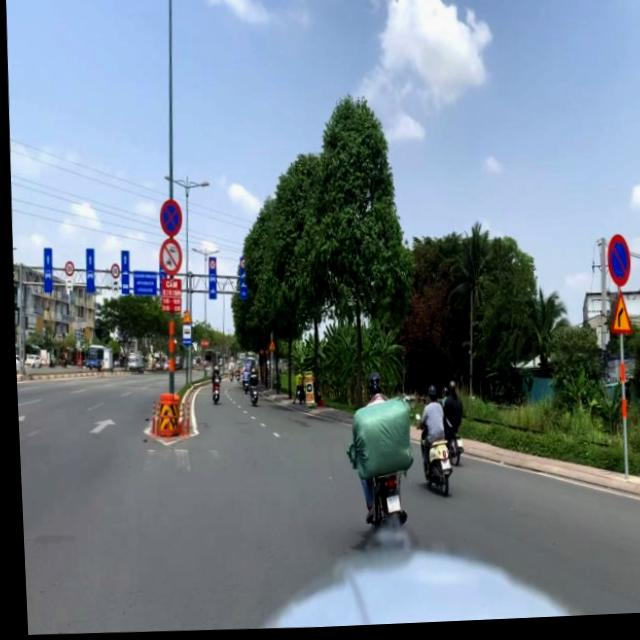Ben xe buyt: (178, 324, 189, 347)
Cam do xe: (603, 239, 629, 293)
Cam dung xe va do xe: (156, 200, 180, 238)
Nguoi di bo cat ngang: (264, 340, 272, 354)
Toc do toi da cho phep: (107, 263, 117, 280), (63, 260, 71, 277), (206, 260, 213, 272), (238, 259, 244, 272)
cho ngoat nguy hiem vong ben phai: (604, 293, 630, 341), (178, 310, 190, 325)
